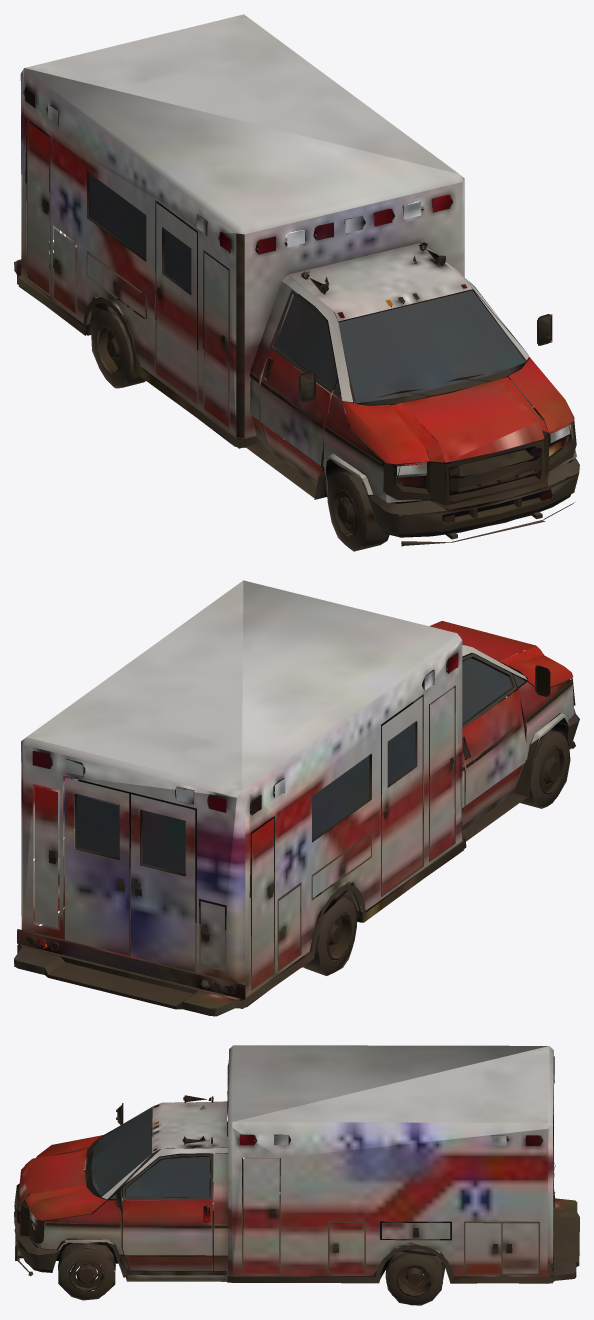
File: pack-ambulance-L2.glb
3 views of the same model, one above another, from view 1: azimuth 30°, elevation 25°; view 2: azimuth 150°, elevation 25°; view 3: azimuth 270°, elevation 25° (orthographic). The views are drawn at different scales.
Visible parts, largest first — view 1: body; view 2: body; view 3: body.
Part boxes in pixels (left/top/right/bottom): body: left=14, top=14, right=579, bottom=551; body: left=14, top=580, right=579, bottom=1016; body: left=14, top=1045, right=579, bottom=1305.
Size of the model in its own units: 2.59 by 2.46 by 6.91.
Materials: 1 (1 with a texture image).
